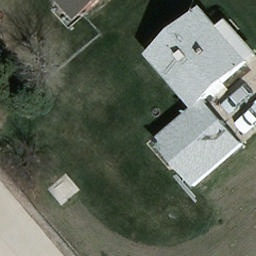car: (220, 82, 252, 114)
